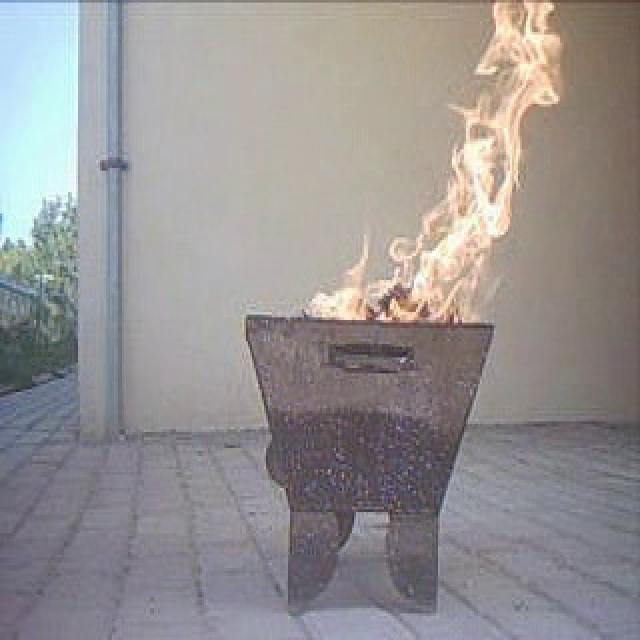Fire: (468, 13, 528, 216), (334, 232, 482, 310)
